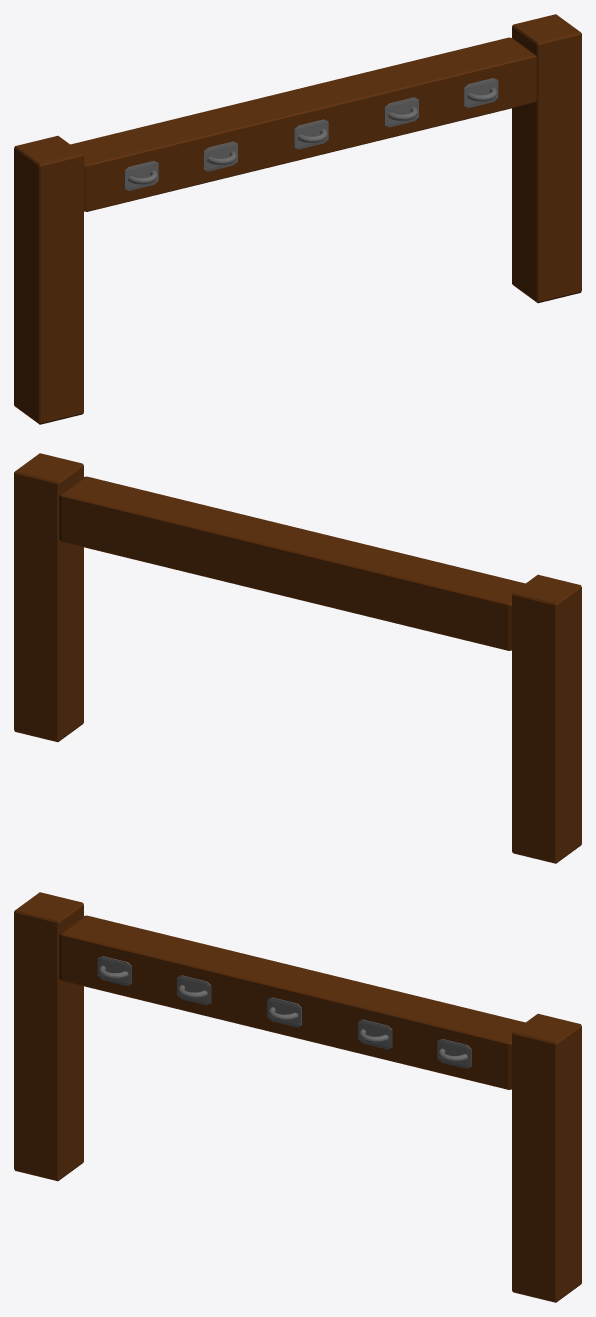
The model's file is horseplace.fbx.
The picture shows the model from 3 angles, top to bottom: view 1: azimuth 30°, elevation 25°; view 2: azimuth 150°, elevation 25°; view 3: azimuth 330°, elevation 25°; orthographic projection.
Visible parts, largest first — view 1: PfostenMitte, PfostenL, PfosteR, Cube.004, Cube.002, Cube, Cube.001, Cube.003; view 2: PfostenMitte, PfostenL, PfosteR; view 3: PfostenMitte, PfosteR, PfostenL, Cube.004, Cube, Cube.002, Cube.003, Cube.001.
Boxes of the visible parts, x1,y1,x2,y2 form: PfostenMitte: [70, 37, 536, 211]; PfostenL: [14, 135, 83, 424]; PfosteR: [512, 14, 581, 303]; Cube.004: [294, 119, 328, 149]; Cube.002: [203, 141, 237, 171]; Cube: [384, 97, 418, 127]; Cube.001: [464, 78, 498, 107]; Cube.003: [124, 161, 158, 190]; PfostenMitte: [59, 476, 525, 650]; PfostenL: [512, 574, 581, 863]; PfosteR: [14, 453, 83, 742]; PfostenMitte: [59, 915, 525, 1089]; PfosteR: [512, 1013, 581, 1302]; PfostenL: [14, 892, 83, 1181]; Cube.004: [267, 997, 301, 1027]; Cube: [358, 1019, 392, 1049]; Cube.002: [177, 975, 211, 1005]; Cube.003: [97, 956, 131, 985]; Cube.001: [437, 1039, 471, 1068].
Bounding box in the file's own units: 240 × 110 × 26.25.
